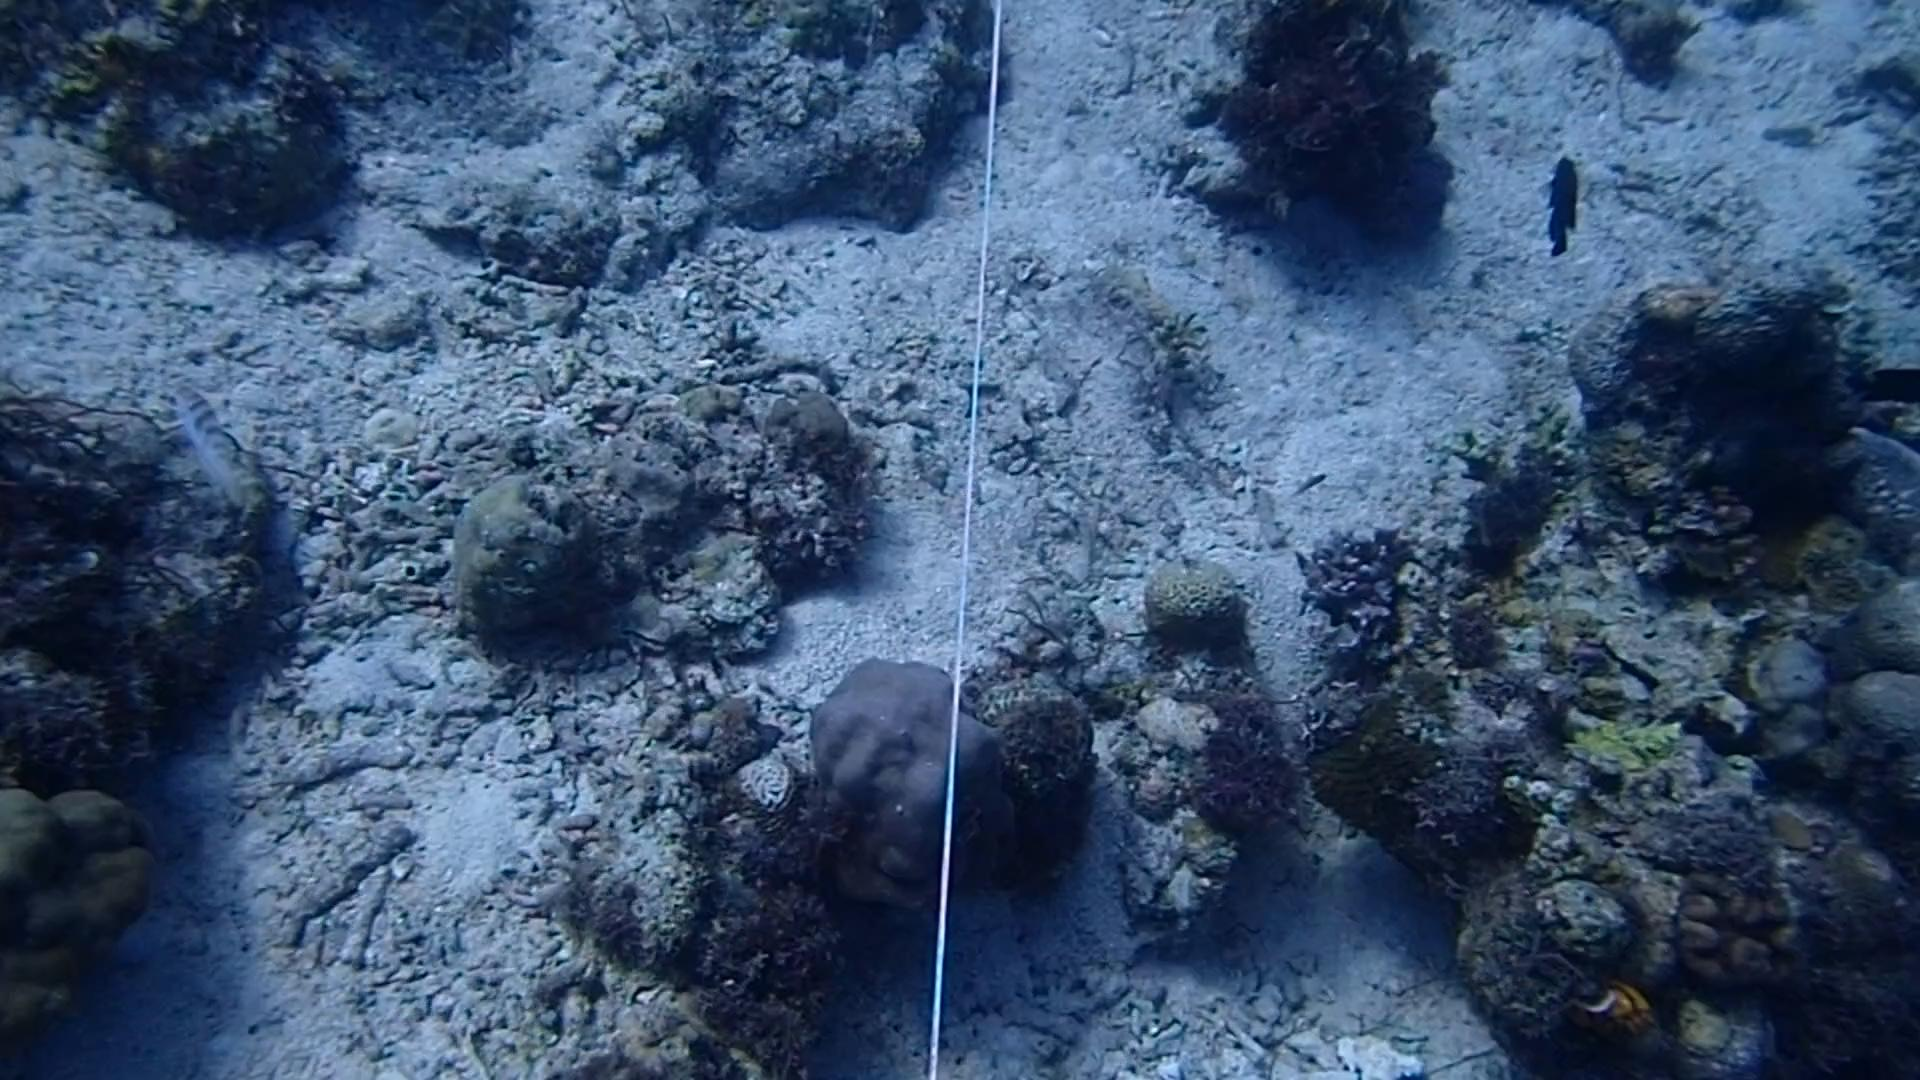Dark Fish: (1540, 141, 1594, 262), (1837, 355, 1920, 419)
Light Fish w Back Stripes: (161, 368, 258, 514)
